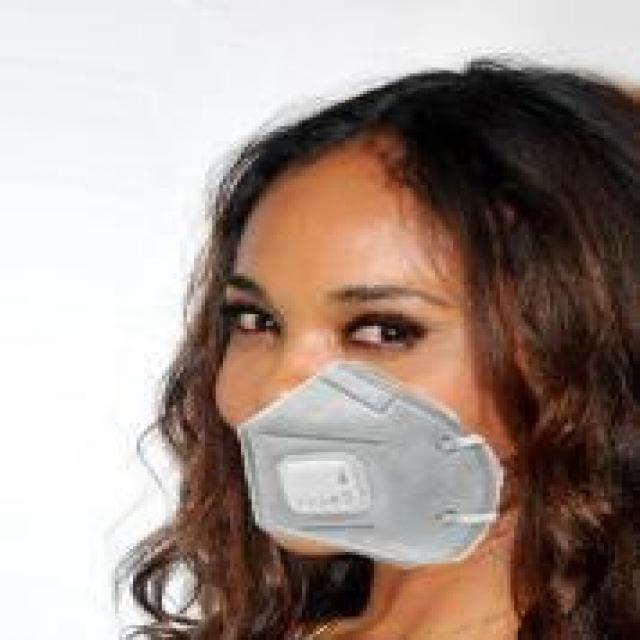mask: (122, 132, 604, 581)
